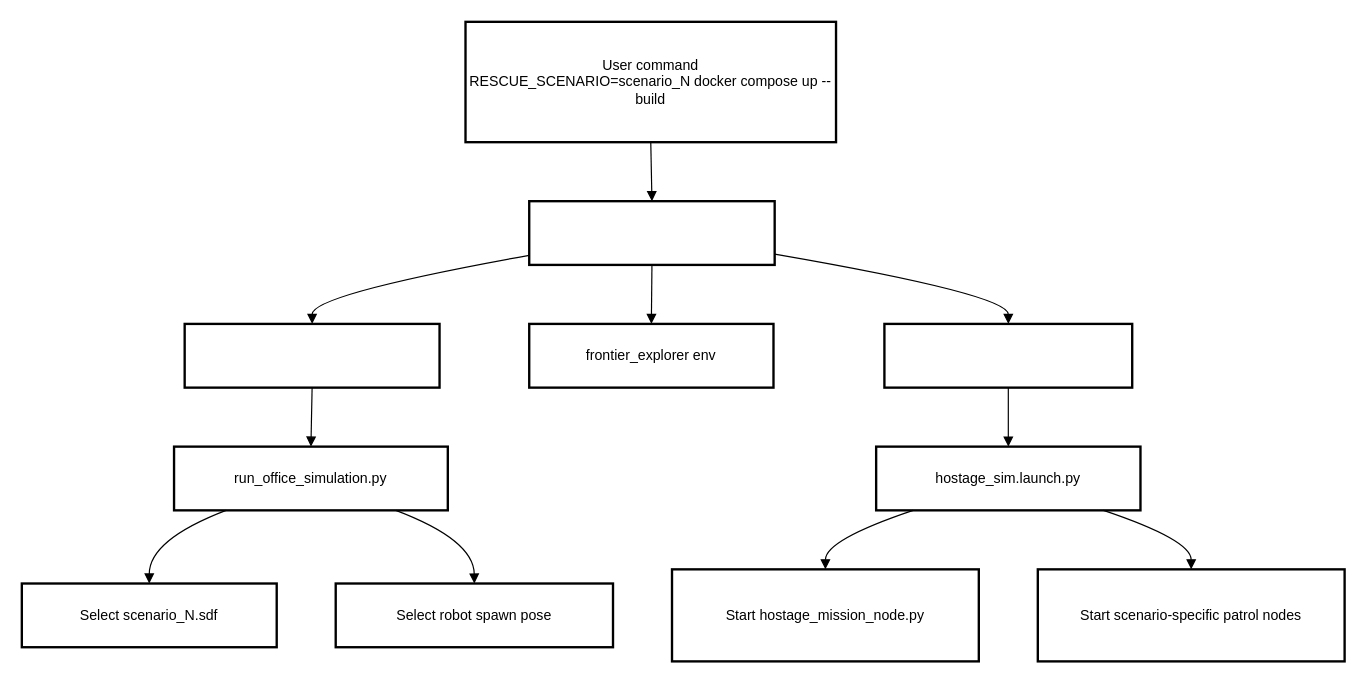
Image size: 1365x682. Some labels were removed from this diagram. The shapes that lost their labels are listed below. From the top down, each one's centre as x and y in pixels, then its label:
point (651, 232): docker-compose.yml
point (311, 355): rosbot_simulation env
point (1008, 355): hostage_mission env
